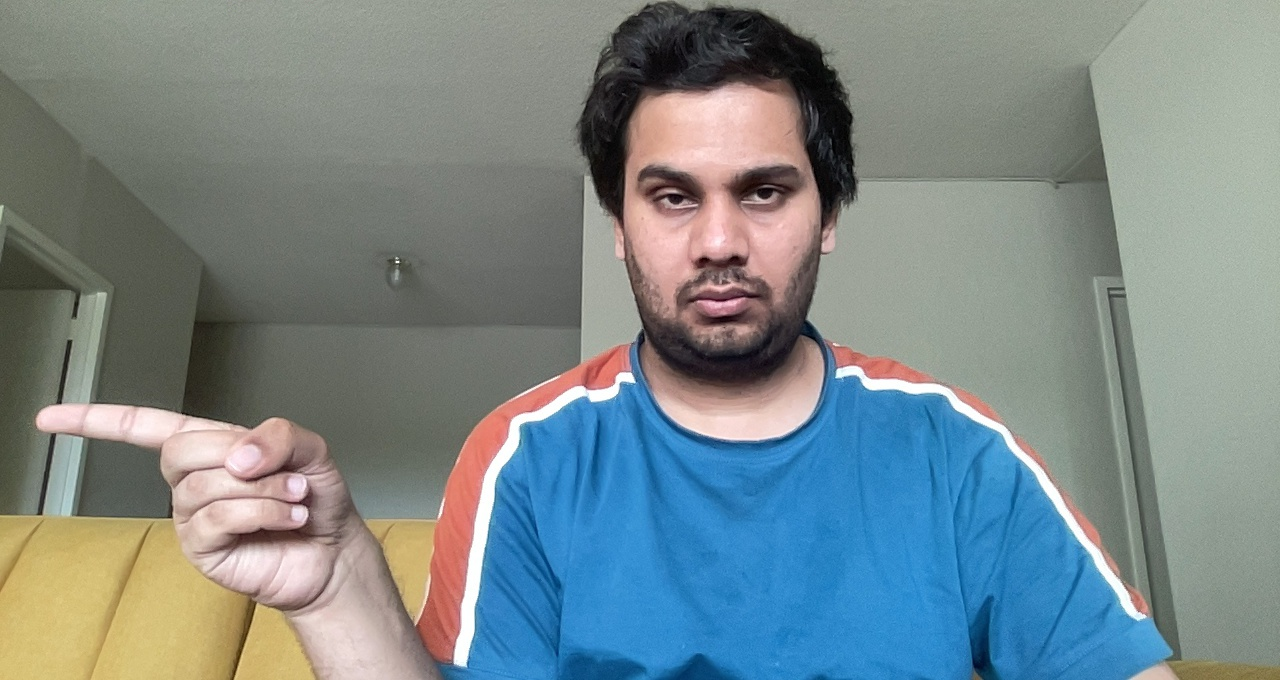fingerright: (30, 395, 359, 615)
